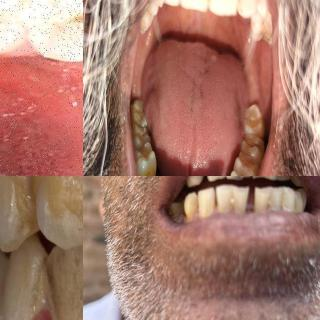calculus: (35, 176, 83, 230), (46, 259, 83, 320), (0, 176, 37, 233), (225, 191, 239, 211), (279, 195, 289, 213), (265, 193, 273, 210), (294, 199, 298, 209)
cavities: (45, 0, 83, 49), (246, 134, 265, 161), (134, 166, 154, 176)
maligned: (29, 176, 83, 242)
stains: (21, 252, 63, 315), (68, 252, 83, 320), (185, 196, 198, 222)
